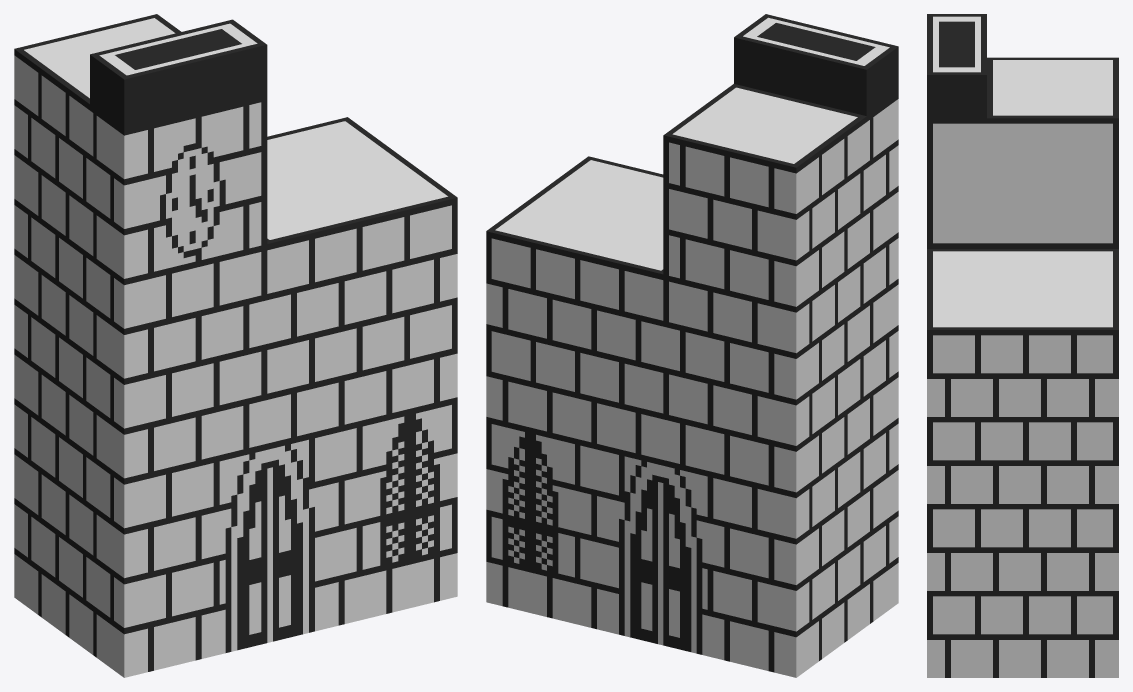
Rendered from church.obj.
3 renders of one model, left to right at view 1: azimuth 30°, elevation 25°; view 2: azimuth 150°, elevation 25°; view 3: azimuth 270°, elevation 25°, orthographic. The views are drawn at different scales.
Size of the model in its own units: 5.6 by 9.6 by 3.2.
Materials: 1 (1 with a texture image).
